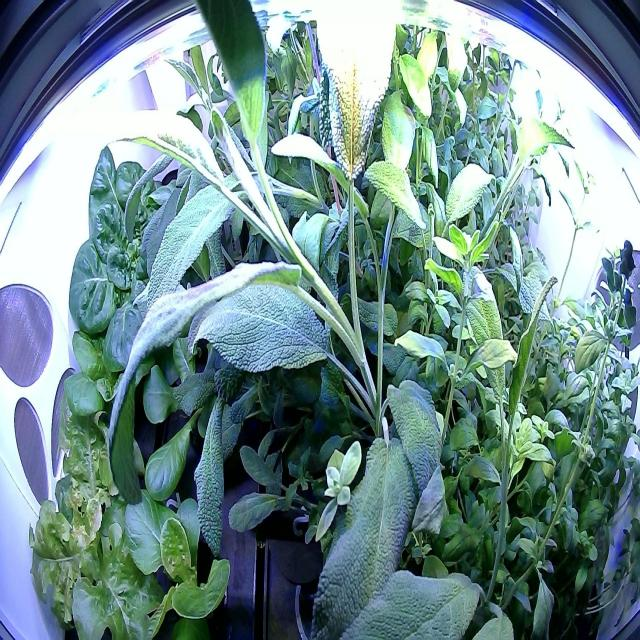Ready: (56, 131, 212, 373)
young: (128, 316, 259, 514), (110, 464, 242, 638), (54, 312, 152, 474)
